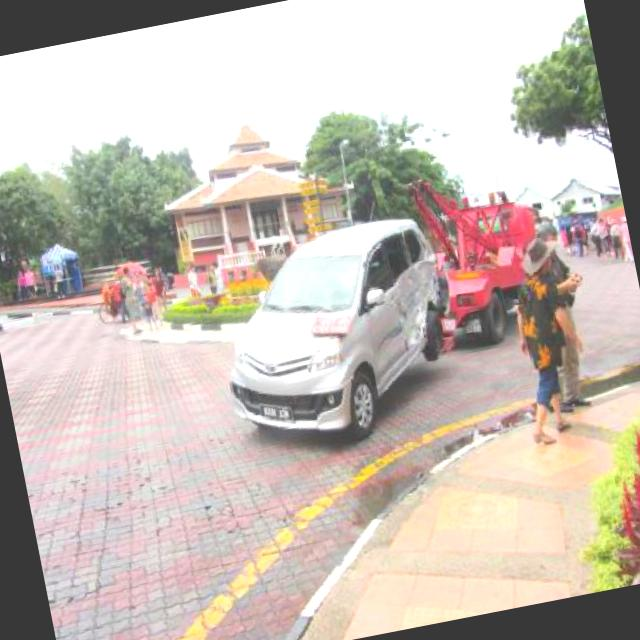Person: (498, 232, 604, 450), (512, 214, 609, 416), (95, 258, 178, 339), (554, 208, 636, 279), (48, 260, 68, 302), (22, 263, 40, 306), (11, 264, 30, 303), (184, 262, 203, 298), (212, 259, 226, 295)
